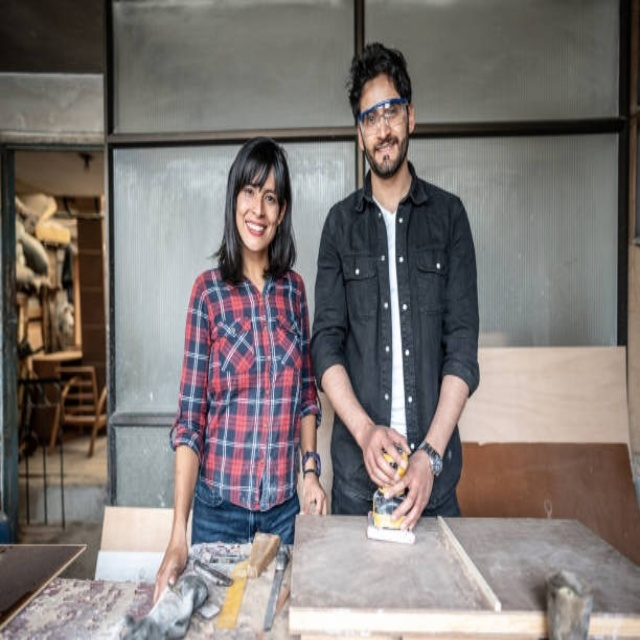Gafas: (359, 100, 409, 133)
Sin_gafas: (241, 177, 278, 210)
Sin_guantes: (380, 439, 437, 530), (361, 416, 415, 485), (150, 527, 191, 605), (300, 464, 327, 517)
Sin_mascara: (370, 135, 401, 169), (238, 215, 271, 242)
